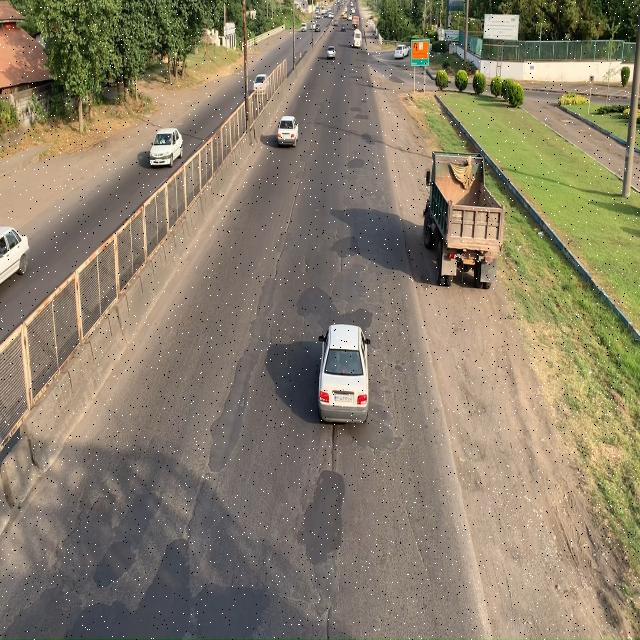Truck: (424, 156, 508, 298)
cars: (318, 323, 371, 421), (0, 225, 30, 295), (150, 130, 182, 166), (274, 116, 301, 150)
